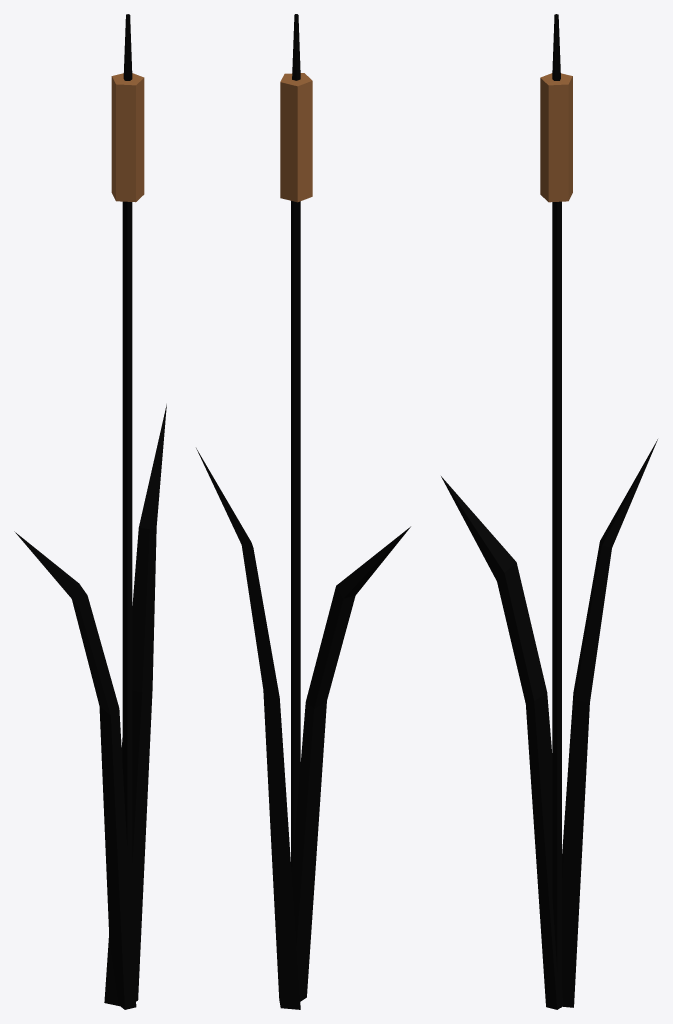
Rendered from Reed_1_Large.fbx.
3 renders of one model, left to right at view 1: azimuth 30°, elevation 25°; view 2: azimuth 150°, elevation 25°; view 3: azimuth 330°, elevation 25°, orthographic.
Parts seen in each view (by area): view 1: Reed_1_Large; view 2: Reed_1_Large; view 3: Reed_1_Large.
Part boxes in pixels (x1,y1,x2,y2): Reed_1_Large: [14, 14, 166, 1009]; Reed_1_Large: [196, 14, 410, 1009]; Reed_1_Large: [441, 14, 657, 1009].
Bounding box in the file's own units: 0.0828 × 0.423 × 0.0306.
